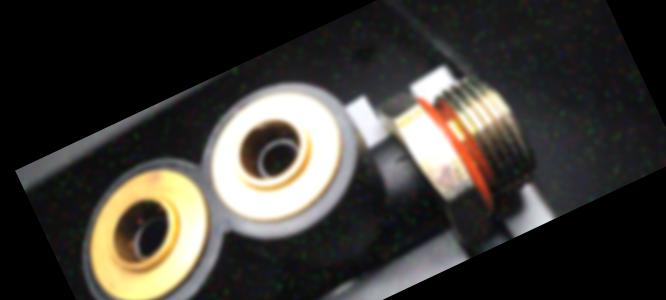craze: (386, 148, 415, 168)
joint line: (381, 166, 392, 176)
